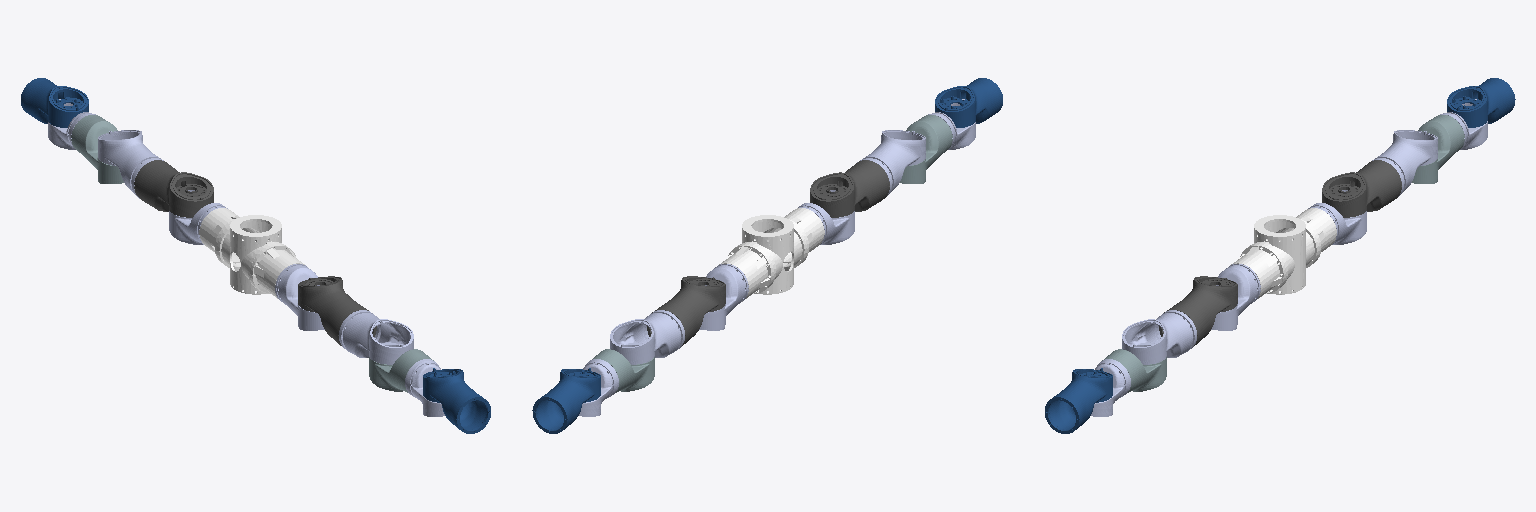
The robot description file, URDF, robot "double_urdf_1115":
<?xml version="1.0" encoding="utf-8"?>
<!-- This URDF was automatically created by SolidWorks to URDF Exporter! Originally created by [author] ([email redacted]) 
     Commit Version: 1.6.0-4-g7f85cfe  Build Version: 1.6.7995.38578
     For more information, please see http://wiki.ros.org/sw_urdf_exporter -->
<robot
  name="double_urdf_1115">
  <link
    name="base_link">
    <inertial>
      <origin
        xyz="0.0014924 -3.6009E-07 0.0071665"
        rpy="0 0 0" />
      <mass
        value="0.26633" />
      <inertia
        ixx="0.001015"
        ixy="-1.6437E-08"
        ixz="2.8422E-06"
        iyy="0.00087826"
        iyz="-1.5352E-09"
        izz="0.0009477" />
    </inertial>
    <visual>
      <origin
        xyz="0 0 0"
        rpy="0 0 0" />
      <geometry>
        <mesh
          filename="package://double_urdf_1115/meshes/base_link.STL" />
      </geometry>
      <material
        name="">
        <color
          rgba="1 1 1 1" />
      </material>
    </visual>
    <collision>
      <origin
        xyz="0 0 0"
        rpy="0 0 0" />
      <geometry>
        <mesh
          filename="package://double_urdf_1115/meshes/base_link.STL" />
      </geometry>
    </collision>
  </link>
  <link
    name="Empty_Link1">
    <inertial>
      <origin
        xyz="1.3342E-15 -1.4314E-16 -0.045037"
        rpy="0 0 0" />
      <mass
        value="0.13934" />
      <inertia
        ixx="0.00027154"
        ixy="-1.0009E-19"
        ixz="1.8873E-20"
        iyy="0.00027154"
        iyz="2.3247E-20"
        izz="0.0002872" />
    </inertial>
    <visual>
      <origin
        xyz="0 0 0"
        rpy="0 0 0" />
      <geometry>
        <mesh
          filename="package://double_urdf_1115/meshes/Empty_Link1.STL" />
      </geometry>
      <material
        name="">
        <color
          rgba="1 1 1 1" />
      </material>
    </visual>
    <collision>
      <origin
        xyz="0 0 0"
        rpy="0 0 0" />
      <geometry>
        <mesh
          filename="package://double_urdf_1115/meshes/Empty_Link1.STL" />
      </geometry>
    </collision>
  </link>
  <joint
    name="joint1"
    type="revolute">
    <origin
      xyz="0 0.155 0"
      rpy="-1.5708 0 0" />
    <parent
      link="base_link" />
    <child
      link="Empty_Link1" />
    <axis
      xyz="0 0 1" />
    <limit
      lower="-3.14"
      upper="3.14"
      effort="0"
      velocity="0" />
  </joint>
  <link
    name="Empty_Link2">
    <inertial>
      <origin
        xyz="7.166E-06 -0.048549 -0.0068856"
        rpy="0 0 0" />
      <mass
        value="0.18506" />
      <inertia
        ixx="0.00057474"
        ixy="1.582E-08"
        ixz="1.5257E-08"
        iyy="0.00030975"
        iyz="2.2393E-05"
        izz="0.00060015" />
    </inertial>
    <visual>
      <origin
        xyz="0 0 0"
        rpy="0 0 0" />
      <geometry>
        <mesh
          filename="package://double_urdf_1115/meshes/Empty_Link2.STL" />
      </geometry>
      <material
        name="">
        <color
          rgba="0.79216 0.81961 0.93333 1" />
      </material>
    </visual>
    <collision>
      <origin
        xyz="0 0 0"
        rpy="0 0 0" />
      <geometry>
        <mesh
          filename="package://double_urdf_1115/meshes/Empty_Link2.STL" />
      </geometry>
    </collision>
  </link>
  <joint
    name="joint2"
    type="revolute">
    <origin
      xyz="0 -0.00035 0.11922"
      rpy="1.5708 0 0" />
    <parent
      link="Empty_Link1" />
    <child
      link="Empty_Link2" />
    <axis
      xyz="0 0 1" />
    <limit
      lower="-3.14"
      upper="3.14"
      effort="0"
      velocity="0" />
  </joint>
  <link
    name="Empty_Link3">
    <inertial>
      <origin
        xyz="5.8184E-05 -0.016095 -0.091281"
        rpy="0 0 0" />
      <mass
        value="0.17747" />
      <inertia
        ixx="0.00082408"
        ixy="-1.8121E-07"
        ixz="3.8226E-07"
        iyy="0.00083188"
        iyz="-0.00014581"
        izz="0.00032099" />
    </inertial>
    <visual>
      <origin
        xyz="0 0 0"
        rpy="0 0 0" />
      <geometry>
        <mesh
          filename="package://double_urdf_1115/meshes/Empty_Link3.STL" />
      </geometry>
      <material
        name="">
        <color
          rgba="0.4 0.4 0.4 1" />
      </material>
    </visual>
    <collision>
      <origin
        xyz="0 0 0"
        rpy="0 0 0" />
      <geometry>
        <mesh
          filename="package://double_urdf_1115/meshes/Empty_Link3.STL" />
      </geometry>
    </collision>
  </link>
  <joint
    name="joint3"
    type="revolute">
    <origin
      xyz="0 0.15914 -0.00045174"
      rpy="-1.5708 0 0" />
    <parent
      link="Empty_Link2" />
    <child
      link="Empty_Link3" />
    <axis
      xyz="0 0 1" />
    <limit
      lower="-3.14"
      upper="3.14"
      effort="0"
      velocity="0" />
  </joint>
  <link
    name="Empty_Link4">
    <inertial>
      <origin
        xyz="-2.34690957390065E-05 0.0530429982897136 -0.0344936012786148"
        rpy="0 0 0" />
      <mass
        value="0.16192408835113" />
      <inertia
        ixx="0.000592553537026838"
        ixy="1.24920714247319E-07"
        ixz="-2.56857673520256E-08"
        iyy="0.000284690856489502"
        iyz="-1.56663424512197E-05"
        izz="0.000621255050385904" />
    </inertial>
    <visual>
      <origin
        xyz="0 0 0"
        rpy="0 0 0" />
      <geometry>
        <mesh
          filename="package://double_urdf_1115/meshes/Empty_Link4.STL" />
      </geometry>
      <material
        name="">
        <color
          rgba="0.792156862745098 0.819607843137255 0.933333333333333 1" />
      </material>
    </visual>
    <collision>
      <origin
        xyz="0 0 0"
        rpy="0 0 0" />
      <geometry>
        <mesh
          filename="package://double_urdf_1115/meshes/Empty_Link4.STL" />
      </geometry>
    </collision>
  </link>
  <joint
    name="joint4"
    type="revolute">
    <origin
      xyz="-0.00021415 0.027937 0.141"
      rpy="-1.5708 0 0" />
    <parent
      link="Empty_Link3" />
    <child
      link="Empty_Link4" />
    <axis
      xyz="0 0 1" />
    <limit
      lower="-3.14"
      upper="3.14"
      effort="0"
      velocity="0" />
  </joint>
  <link
    name="Empty_Link5">
    <inertial>
      <origin
        xyz="1.04535537986443E-05 0.0186156117776231 -0.0808695350497136"
        rpy="0 0 0" />
      <mass
        value="0.168807323609659" />
      <inertia
        ixx="0.000595652486887033"
        ixy="-1.15153474040901E-08"
        ixz="3.52118443057937E-08"
        iyy="0.000609012231195647"
        iyz="0.000119225841892786"
        izz="0.000286029197228179" />
    </inertial>
    <visual>
      <origin
        xyz="0 0 0"
        rpy="0 0 0" />
      <geometry>
        <mesh
          filename="package://double_urdf_1115/meshes/Empty_Link5.STL" />
      </geometry>
      <material
        name="">
        <color
          rgba="0.592156862745098 0.666666666666667 0.682352941176471 1" />
      </material>
    </visual>
    <collision>
      <origin
        xyz="0 0 0"
        rpy="0 0 0" />
      <geometry>
        <mesh
          filename="package://double_urdf_1115/meshes/Empty_Link5.STL" />
      </geometry>
    </collision>
  </link>
  <joint
    name="joint5"
    type="revolute">
    <origin
      xyz="0 -0.13261 -0.028113"
      rpy="1.5708 0 0" />
    <parent
      link="Empty_Link4" />
    <child
      link="Empty_Link5" />
    <axis
      xyz="0 0 1" />
    <limit
      lower="-3.14"
      upper="3.14"
      effort="0"
      velocity="0" />
  </joint>
  <link
    name="Empty_Link6">
    <inertial>
      <origin
        xyz="-5.37742704261599E-06 -0.0294879271262189 -0.0050268422920796"
        rpy="0 0 0" />
      <mass
        value="0.117396065677008" />
      <inertia
        ixx="0.000223870432302695"
        ixy="7.95027783487269E-09"
        ixz="-5.72128501019399E-09"
        iyy="0.000157599697987618"
        iyz="-2.17977047320675E-06"
        izz="0.000247478280617227" />
    </inertial>
    <visual>
      <origin
        xyz="0 0 0"
        rpy="0 0 0" />
      <geometry>
        <mesh
          filename="package://double_urdf_1115/meshes/Empty_Link6.STL" />
      </geometry>
      <material
        name="">
        <color
          rgba="0.792156862745098 0.819607843137255 0.933333333333333 1" />
      </material>
    </visual>
    <collision>
      <origin
        xyz="0 0 0"
        rpy="0 0 0" />
      <geometry>
        <mesh
          filename="package://double_urdf_1115/meshes/Empty_Link6.STL" />
      </geometry>
    </collision>
  </link>
  <joint
    name="joint6"
    type="revolute">
    <origin
      xyz="0 0.00015973 0.0874"
      rpy="1.5708 0 0" />
    <parent
      link="Empty_Link5" />
    <child
      link="Empty_Link6" />
    <axis
      xyz="0 0 1" />
    <limit
      lower="-3.14"
      upper="3.14"
      effort="0"
      velocity="0" />
  </joint>
  <link
    name="Empty_Link7">
    <inertial>
      <origin
        xyz="-3.59625462130323E-05 -0.0148085138766828 -0.0803302114956457"
        rpy="0 0 0" />
      <mass
        value="0.142755944866628" />
      <inertia
        ixx="0.000464416842224509"
        ixy="-1.13125801258198E-07"
        ixz="-2.41633988960636E-07"
        iyy="0.000477322772947618"
        iyz="-8.04893326122221E-05"
        izz="0.000208248311212371" />
    </inertial>
    <visual>
      <origin
        xyz="0 0 0"
        rpy="0 0 0" />
      <geometry>
        <mesh
          filename="package://double_urdf_1115/meshes/Empty_Link7.STL" />
      </geometry>
      <material
        name="">
        <color
          rgba="0.207843137254902 0.376470588235294 0.568627450980392 1" />
      </material>
    </visual>
    <collision>
      <origin
        xyz="0 0 0"
        rpy="0 0 0" />
      <geometry>
        <mesh
          filename="package://double_urdf_1115/meshes/Empty_Link7.STL" />
      </geometry>
    </collision>
  </link>
  <joint
    name="joint7"
    type="revolute">
    <origin
      xyz="0 0.13012 6.068E-05"
      rpy="-1.5708 0 0" />
    <parent
      link="Empty_Link6" />
    <child
      link="Empty_Link7" />
    <axis
      xyz="0 0 1" />
    <limit
      lower="-3.14"
      upper="3.14"
      effort="0"
      velocity="0" />
  </joint>
  <link
    name="Empty_Link8">
    <inertial>
      <origin
        xyz="1.49721899678073E-17 1.21212098202637E-17 -0.0450366643520861"
        rpy="0 0 0" />
      <mass
        value="0.139340614702608" />
      <inertia
        ixx="0.000271543617515806"
        ixy="0"
        ixz="3.28941289409917E-20"
        iyy="0.000271543617515806"
        iyz="-1.90269046791232E-20"
        izz="0.000287198405303248" />
    </inertial>
    <visual>
      <origin
        xyz="0 0 0"
        rpy="0 0 0" />
      <geometry>
        <mesh
          filename="package://double_urdf_1115/meshes/Empty_Link8.STL" />
      </geometry>
      <material
        name="">
        <color
          rgba="1 1 1 1" />
      </material>
    </visual>
    <collision>
      <origin
        xyz="0 0 0"
        rpy="0 0 0" />
      <geometry>
        <mesh
          filename="package://double_urdf_1115/meshes/Empty_Link8.STL" />
      </geometry>
    </collision>
  </link>
  <joint
    name="joint8"
    type="revolute">
    <origin
      xyz="0 -0.155 0"
      rpy="1.5708 0 0" />
    <parent
      link="base_link" />
    <child
      link="Empty_Link8" />
    <axis
      xyz="0 0 1" />
    <limit
      lower="-3.14"
      upper="3.14"
      effort="0"
      velocity="0" />
  </joint>
  <link
    name="Empty_Link9">
    <inertial>
      <origin
        xyz="-7.16594927825932E-06 0.0485485652046426 -0.00688560464007289"
        rpy="0 0 0" />
      <mass
        value="0.185060518932336" />
      <inertia
        ixx="0.000574743039604598"
        ixy="1.58201859118487E-08"
        ixz="-1.52565385581314E-08"
        iyy="0.000309754503746068"
        iyz="-2.23925932297582E-05"
        izz="0.000600146186131235" />
    </inertial>
    <visual>
      <origin
        xyz="0 0 0"
        rpy="0 0 0" />
      <geometry>
        <mesh
          filename="package://double_urdf_1115/meshes/Empty_Link9.STL" />
      </geometry>
      <material
        name="">
        <color
          rgba="0.792156862745098 0.819607843137255 0.933333333333333 1" />
      </material>
    </visual>
    <collision>
      <origin
        xyz="0 0 0"
        rpy="0 0 0" />
      <geometry>
        <mesh
          filename="package://double_urdf_1115/meshes/Empty_Link9.STL" />
      </geometry>
    </collision>
  </link>
  <joint
    name="joint9"
    type="revolute">
    <origin
      xyz="-0.00031688 0.00014862 0.11922"
      rpy="-1.5708 0 0" />
    <parent
      link="Empty_Link8" />
    <child
      link="Empty_Link9" />
    <axis
      xyz="0 0 1" />
    <limit
      lower="-3.14"
      upper="3.14"
      effort="0"
      velocity="0" />
  </joint>
  <link
    name="Empty_Link10">
    <inertial>
      <origin
        xyz="-5.94384826685485E-05 0.0160958771905672 -0.0912820049952374"
        rpy="0 0 0" />
      <mass
        value="0.177472851336342" />
      <inertia
        ixx="0.000824077447613594"
        ixy="-1.72307611943163E-07"
        ixz="-3.71042895258372E-07"
        iyy="0.000831872702963459"
        iyz="0.000145819419475302"
        izz="0.000320999323188475" />
    </inertial>
    <visual>
      <origin
        xyz="0 0 0"
        rpy="0 0 0" />
      <geometry>
        <mesh
          filename="package://double_urdf_1115/meshes/Empty_Link10.STL" />
      </geometry>
      <material
        name="">
        <color
          rgba="0.4 0.4 0.4 1" />
      </material>
    </visual>
    <collision>
      <origin
        xyz="0 0 0"
        rpy="0 0 0" />
      <geometry>
        <mesh
          filename="package://double_urdf_1115/meshes/Empty_Link10.STL" />
      </geometry>
    </collision>
  </link>
  <joint
    name="joint10"
    type="revolute">
    <origin
      xyz="0 -0.15914 -0.00045174"
      rpy="1.5708 0 0" />
    <parent
      link="Empty_Link9" />
    <child
      link="Empty_Link10" />
    <axis
      xyz="0 0 1" />
    <limit
      lower="-3.14"
      upper="3.14"
      effort="0"
      velocity="0" />
  </joint>
  <link
    name="Empty_Link11">
    <inertial>
      <origin
        xyz="2.34441480310305E-05 -0.0530429302263745 -0.0344937239635185"
        rpy="0 0 0" />
      <mass
        value="0.161924001999403" />
      <inertia
        ixx="0.000592552353330134"
        ixy="1.2434344296049E-07"
        ixz="2.63003230418194E-08"
        iyy="0.000284690451366544"
        iyz="1.56656637680802E-05"
        izz="0.000621253748082398" />
    </inertial>
    <visual>
      <origin
        xyz="0 0 0"
        rpy="0 0 0" />
      <geometry>
        <mesh
          filename="package://double_urdf_1115/meshes/Empty_Link11.STL" />
      </geometry>
      <material
        name="">
        <color
          rgba="0.792156862745098 0.819607843137255 0.933333333333333 1" />
      </material>
    </visual>
    <collision>
      <origin
        xyz="0 0 0"
        rpy="0 0 0" />
      <geometry>
        <mesh
          filename="package://double_urdf_1115/meshes/Empty_Link11.STL" />
      </geometry>
    </collision>
  </link>
  <joint
    name="joint11"
    type="revolute">
    <origin
      xyz="0.00021415 -0.027937 0.141"
      rpy="1.5708 0 0" />
    <parent
      link="Empty_Link10" />
    <child
      link="Empty_Link11" />
    <axis
      xyz="0 0 1" />
    <limit
      lower="-3.14"
      upper="3.14"
      effort="0"
      velocity="0" />
  </joint>
  <link
    name="Empty_Link12">
    <inertial>
      <origin
        xyz="-1.04514586418068E-05 -0.0186156122160094 -0.0808695354091304"
        rpy="0 0 0" />
      <mass
        value="0.168807314881665" />
      <inertia
        ixx="0.000595652505520319"
        ixy="-1.15092010285501E-08"
        ixz="-3.52119149028543E-08"
        iyy="0.000609012222102752"
        iyz="-0.000119225846097008"
        izz="0.000286029204756189" />
    </inertial>
    <visual>
      <origin
        xyz="0 0 0"
        rpy="0 0 0" />
      <geometry>
        <mesh
          filename="package://double_urdf_1115/meshes/Empty_Link12.STL" />
      </geometry>
      <material
        name="">
        <color
          rgba="0.592156862745098 0.666666666666667 0.682352941176471 1" />
      </material>
    </visual>
    <collision>
      <origin
        xyz="0 0 0"
        rpy="0 0 0" />
      <geometry>
        <mesh
          filename="package://double_urdf_1115/meshes/Empty_Link12.STL" />
      </geometry>
    </collision>
  </link>
  <joint
    name="joint12"
    type="revolute">
    <origin
      xyz="0 0.13261 -0.028113"
      rpy="-1.5708 0 0" />
    <parent
      link="Empty_Link11" />
    <child
      link="Empty_Link12" />
    <axis
      xyz="0 0 1" />
    <limit
      lower="-3.14"
      upper="3.14"
      effort="0"
      velocity="0" />
  </joint>
  <link
    name="Empty_Link13">
    <inertial>
      <origin
        xyz="5.40421941918373E-06 0.0294879292709374 -0.00502683974917504"
        rpy="0 0 0" />
      <mass
        value="0.117396053955842" />
      <inertia
        ixx="0.000223870417500324"
        ixy="8.02611360782286E-09"
        ixz="5.79779807908504E-09"
        iyy="0.000157599679542628"
        iyz="2.17977735443414E-06"
        izz="0.00024747826441045" />
    </inertial>
    <visual>
      <origin
        xyz="0 0 0"
        rpy="0 0 0" />
      <geometry>
        <mesh
          filename="package://double_urdf_1115/meshes/Empty_Link13.STL" />
      </geometry>
      <material
        name="">
        <color
          rgba="0.792156862745098 0.819607843137255 0.933333333333333 1" />
      </material>
    </visual>
    <collision>
      <origin
        xyz="0 0 0"
        rpy="0 0 0" />
      <geometry>
        <mesh
          filename="package://double_urdf_1115/meshes/Empty_Link13.STL" />
      </geometry>
    </collision>
  </link>
  <joint
    name="joint13"
    type="revolute">
    <origin
      xyz="0 -0.00015973 0.0874"
      rpy="-1.5708 0 0" />
    <parent
      link="Empty_Link12" />
    <child
      link="Empty_Link13" />
    <axis
      xyz="0 0 1" />
    <limit
      lower="-3.14"
      upper="3.14"
      effort="0"
      velocity="0" />
  </joint>
  <link
    name="Empty_Link14">
    <inertial>
      <origin
        xyz="3.5981E-05 0.014808 -0.08033"
        rpy="0 0 0" />
      <mass
        value="0.14276" />
      <inertia
        ixx="0.00046442"
        ixy="-1.1306E-07"
        ixz="2.4166E-07"
        iyy="0.00047732"
        iyz="8.0489E-05"
        izz="0.00020825" />
    </inertial>
    <visual>
      <origin
        xyz="0 0 0"
        rpy="0 0 0" />
      <geometry>
        <mesh
          filename="package://double_urdf_1115/meshes/Empty_Link14.STL" />
      </geometry>
      <material
        name="">
        <color
          rgba="0.20784 0.37647 0.56863 1" />
      </material>
    </visual>
    <collision>
      <origin
        xyz="0 0 0"
        rpy="0 0 0" />
      <geometry>
        <mesh
          filename="package://double_urdf_1115/meshes/Empty_Link14.STL" />
      </geometry>
    </collision>
  </link>
  <joint
    name="joint14"
    type="revolute">
    <origin
      xyz="0 -0.13012 6.068E-05"
      rpy="1.5708 0 0" />
    <parent
      link="Empty_Link13" />
    <child
      link="Empty_Link14" />
    <axis
      xyz="0 0 1" />
    <limit
      lower="-3.14"
      upper="3.14"
      effort="0"
      velocity="0" />
  </joint>
</robot>

--- Facts derived from the render (not from the file) ---
Views: 3 orthographic renders of the robot side by side, from view 1: azimuth 30°, elevation 25°; view 2: azimuth 150°, elevation 25°; view 3: azimuth 330°, elevation 25°.
Robot: double_urdf_1115 — 15 links, 14 joints (14 revolute); root link base_link; default pose: every joint at zero.
Visible links, largest first — view 1: Empty_Link3, base_link, Empty_Link11, Empty_Link14, Empty_Link10, Empty_Link7, Empty_Link4, Empty_Link5, Empty_Link9, Empty_Link8, Empty_Link12, Empty_Link1 (+3 smaller); view 2: Empty_Link10, base_link, Empty_Link4, Empty_Link7, Empty_Link3, Empty_Link14, Empty_Link11, Empty_Link12, Empty_Link2, Empty_Link1, Empty_Link5, Empty_Link8 (+3 smaller); view 3: Empty_Link3, base_link, Empty_Link11, Empty_Link14, Empty_Link10, Empty_Link7, Empty_Link4, Empty_Link5, Empty_Link9, Empty_Link8, Empty_Link12, Empty_Link13 (+3 smaller).
Boxes of the visible links, <box> form: Empty_Link3: <box>134,160,213,217</box>; base_link: <box>217,215,285,294</box>; Empty_Link11: <box>339,310,413,364</box>; Empty_Link14: <box>423,368,490,433</box>; Empty_Link10: <box>298,276,376,345</box>; Empty_Link7: <box>21,78,88,127</box>; Empty_Link4: <box>98,130,163,198</box>; Empty_Link5: <box>71,115,123,183</box>; Empty_Link9: <box>275,264,324,330</box>; Empty_Link8: <box>250,244,304,298</box>; Empty_Link12: <box>369,349,433,392</box>; Empty_Link1: <box>199,208,256,263</box>; Empty_Link10: <box>810,160,889,217</box>; base_link: <box>738,215,806,294</box>; Empty_Link4: <box>610,310,684,364</box>; Empty_Link7: <box>532,368,600,433</box>; Empty_Link3: <box>647,276,725,345</box>; Empty_Link14: <box>935,78,1002,127</box>; Empty_Link11: <box>857,130,925,195</box>; Empty_Link12: <box>900,115,952,183</box>; Empty_Link2: <box>699,264,748,330</box>; Empty_Link1: <box>719,244,773,301</box>; Empty_Link5: <box>592,349,654,392</box>; Empty_Link8: <box>767,208,824,263</box>; Empty_Link3: <box>1322,160,1401,217</box>; base_link: <box>1250,215,1318,294</box>; Empty_Link11: <box>1122,310,1196,364</box>; Empty_Link14: <box>1045,368,1112,433</box>; Empty_Link10: <box>1159,276,1237,345</box>; Empty_Link7: <box>1447,78,1515,127</box>; Empty_Link4: <box>1372,130,1437,196</box>; Empty_Link5: <box>1412,115,1464,183</box>; Empty_Link9: <box>1211,264,1260,330</box>; Empty_Link8: <box>1231,244,1285,298</box>; Empty_Link12: <box>1102,349,1166,392</box>; Empty_Link13: <box>1091,359,1130,416</box>.
Size in the robot's own frame: 0.11 by 1.85 by 0.1353 metres.
Meshes: 15 distinct files referenced, 15 mesh visuals loaded (15 binary STL).